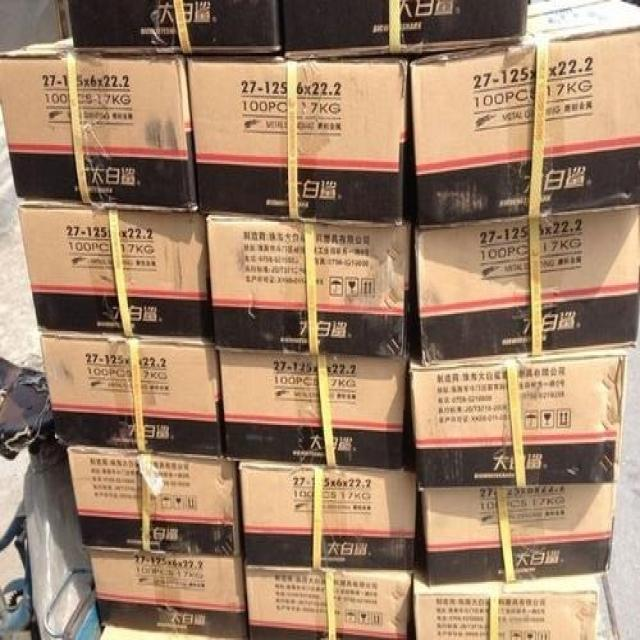box: (410, 24, 640, 229), (187, 55, 411, 225), (0, 34, 200, 213), (413, 208, 640, 364), (410, 346, 627, 490), (17, 196, 215, 352), (206, 213, 411, 360), (41, 335, 227, 463), (218, 350, 407, 473), (421, 483, 614, 585), (68, 445, 241, 558), (238, 461, 413, 572), (87, 550, 251, 640), (284, 0, 529, 58), (412, 565, 599, 640), (244, 565, 413, 640), (68, 0, 280, 58)
